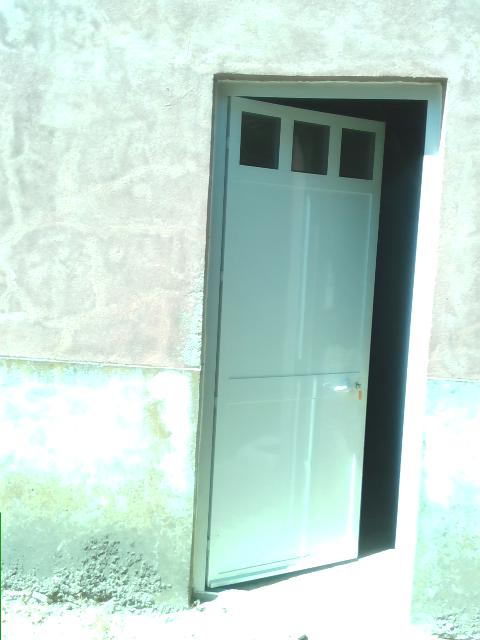semi_door: (191, 72, 447, 597)
